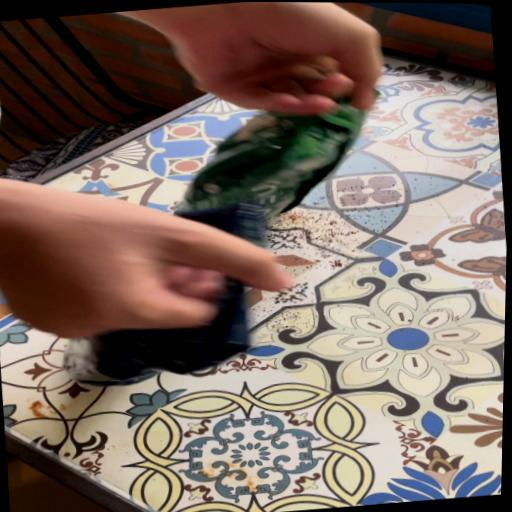cafe_hat: (65, 279, 250, 385), (182, 203, 264, 240)
cafe_xay: (176, 99, 365, 217)
